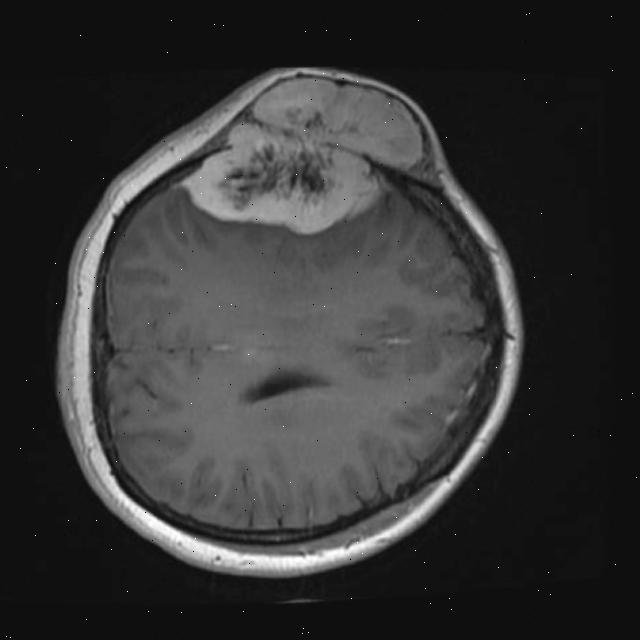Meningioma: (175, 71, 428, 241)
